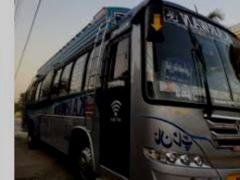bus: (20, 3, 240, 180)
